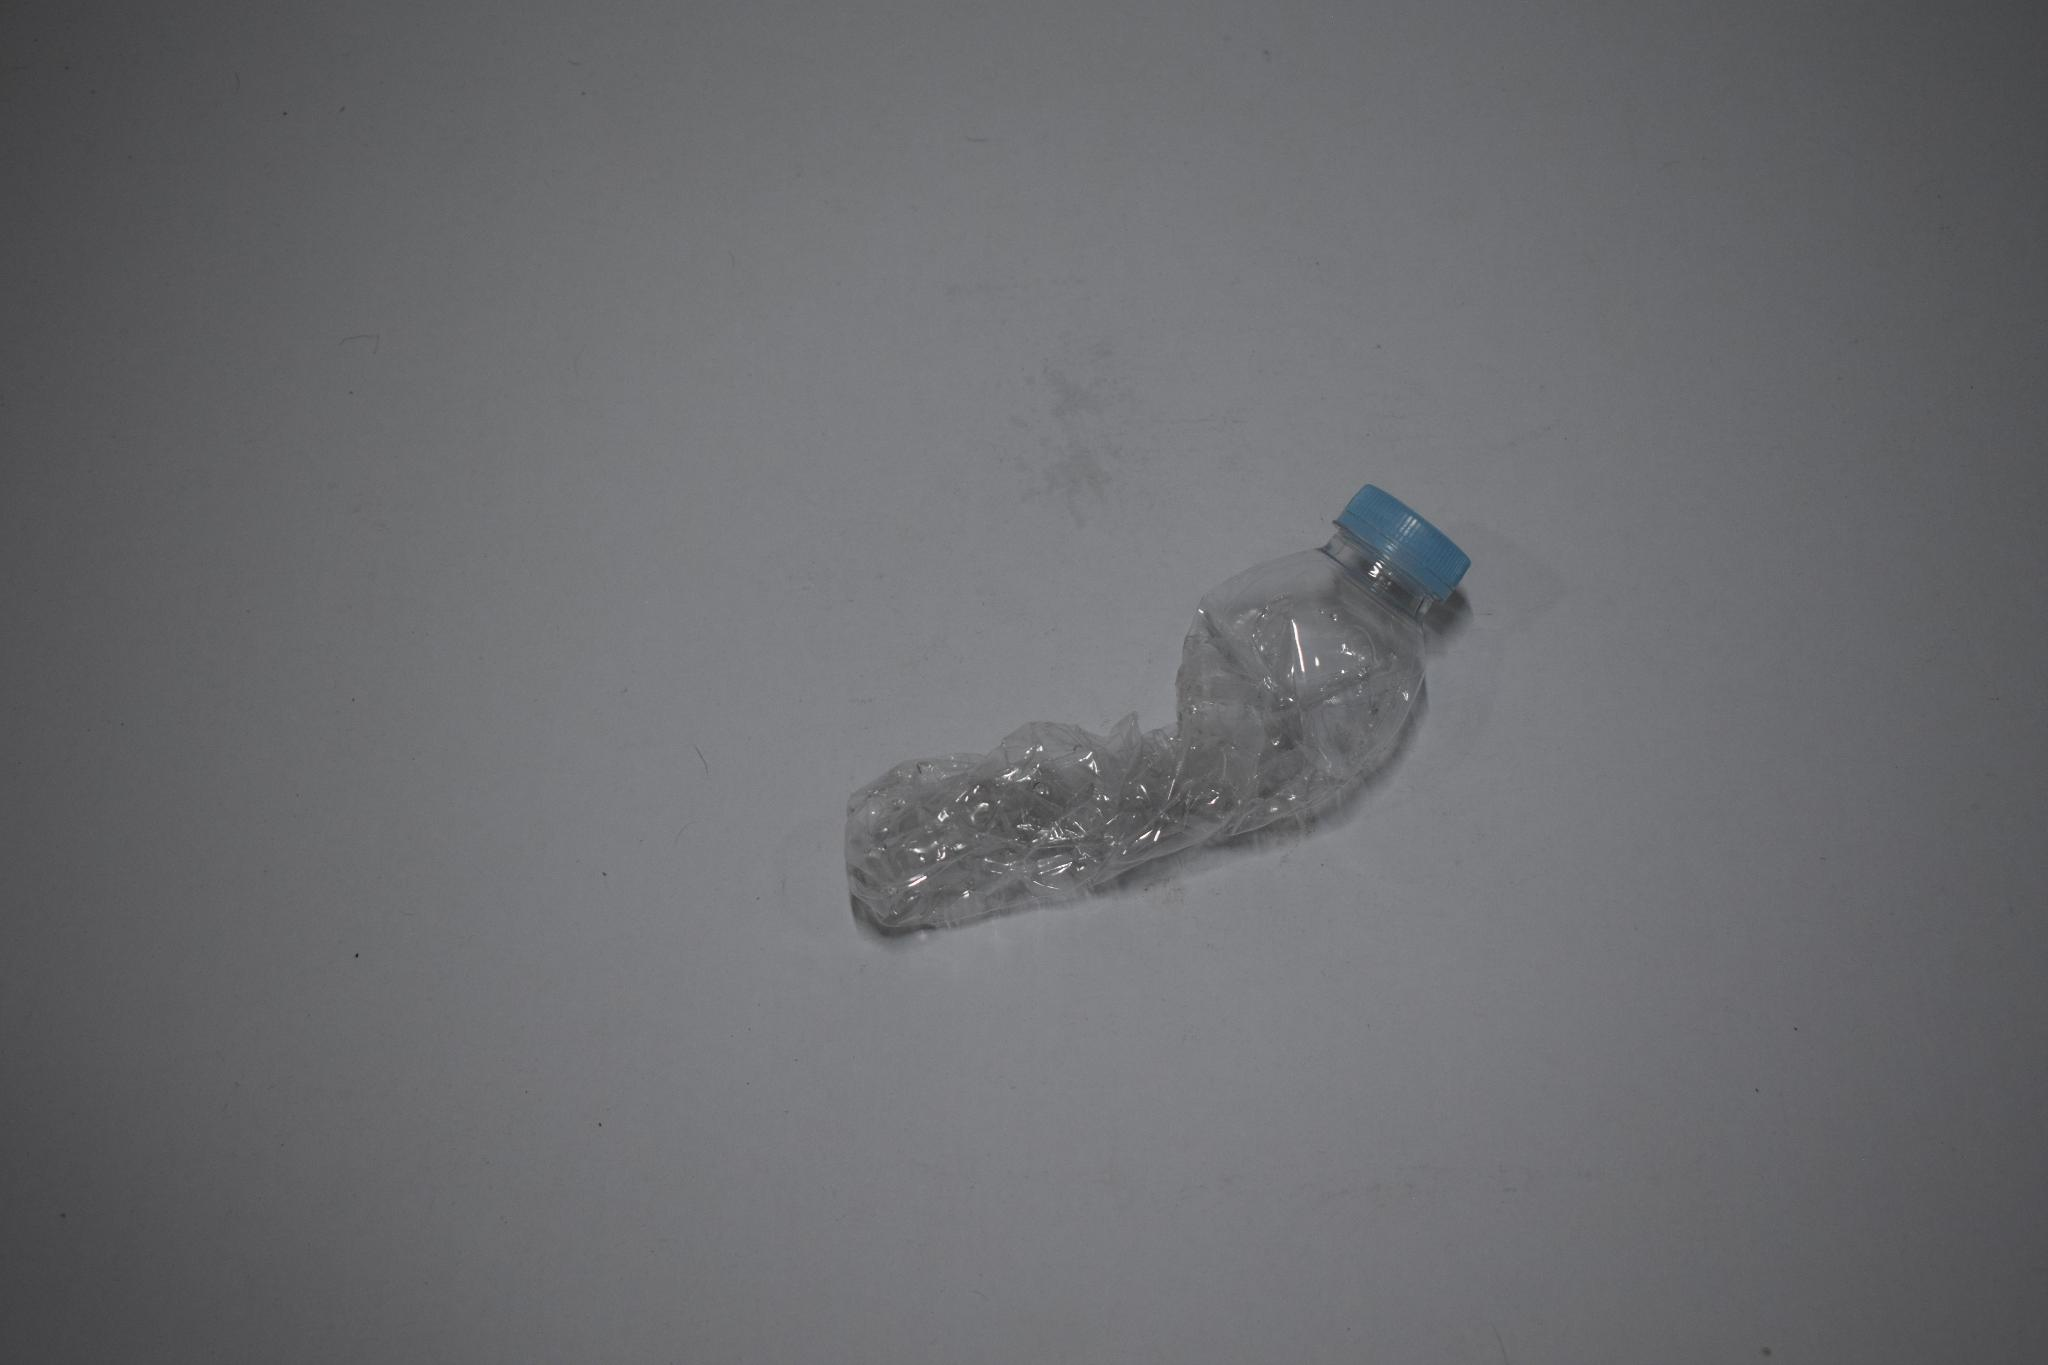bottle: (820, 461, 1496, 985)
